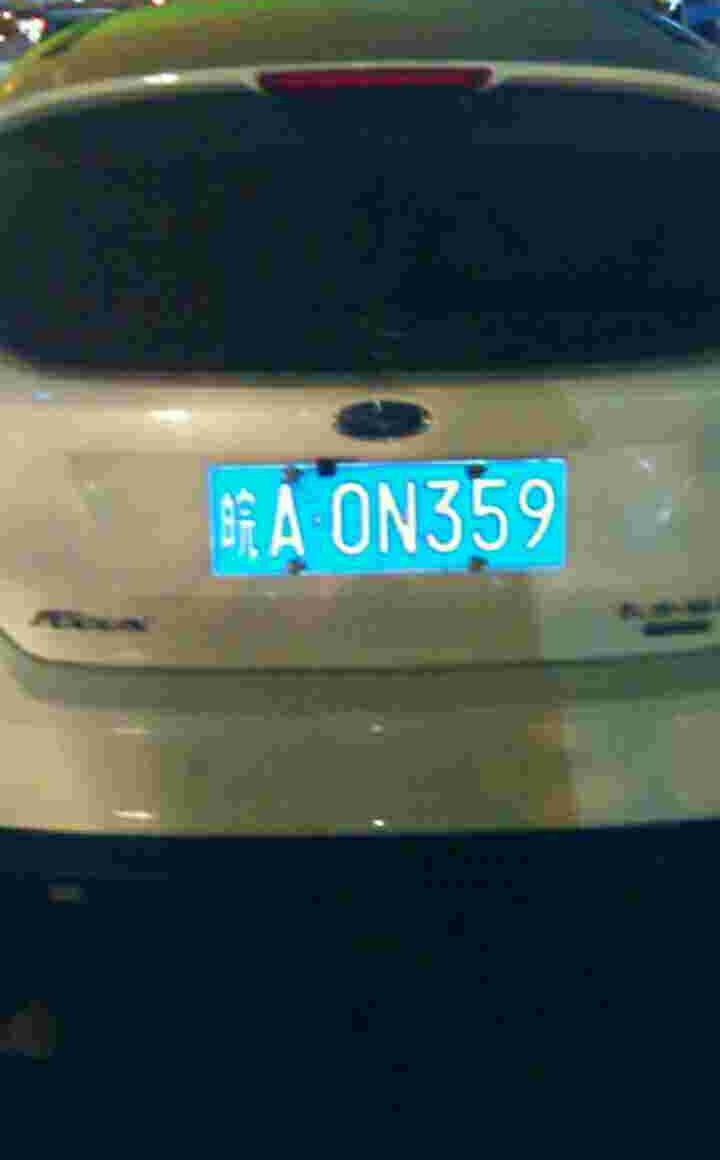license_plate: (203, 460, 554, 585)
